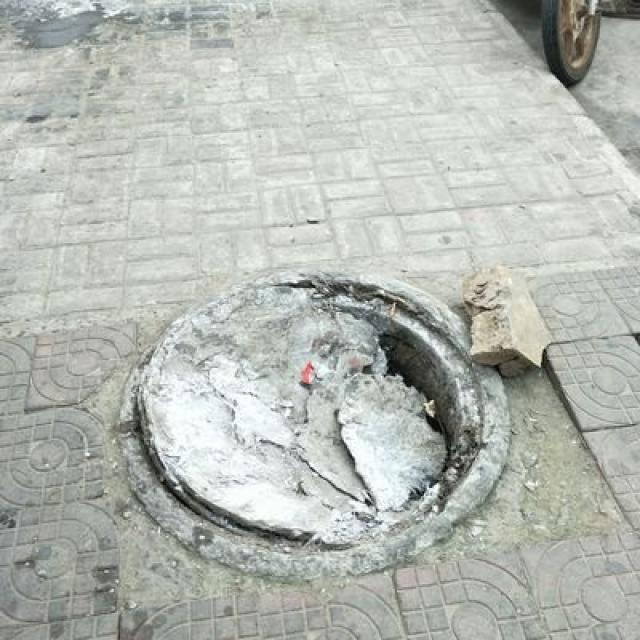manhole: (112, 266, 501, 566)
